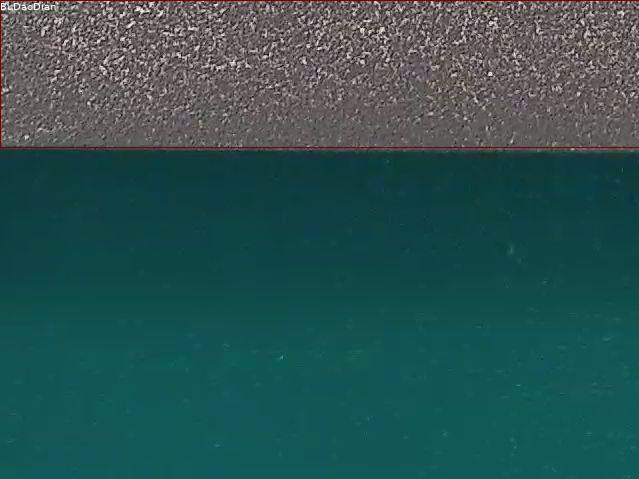BuDaoDian: (0, 0, 639, 147)
